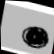correct: (18, 22, 50, 52)
